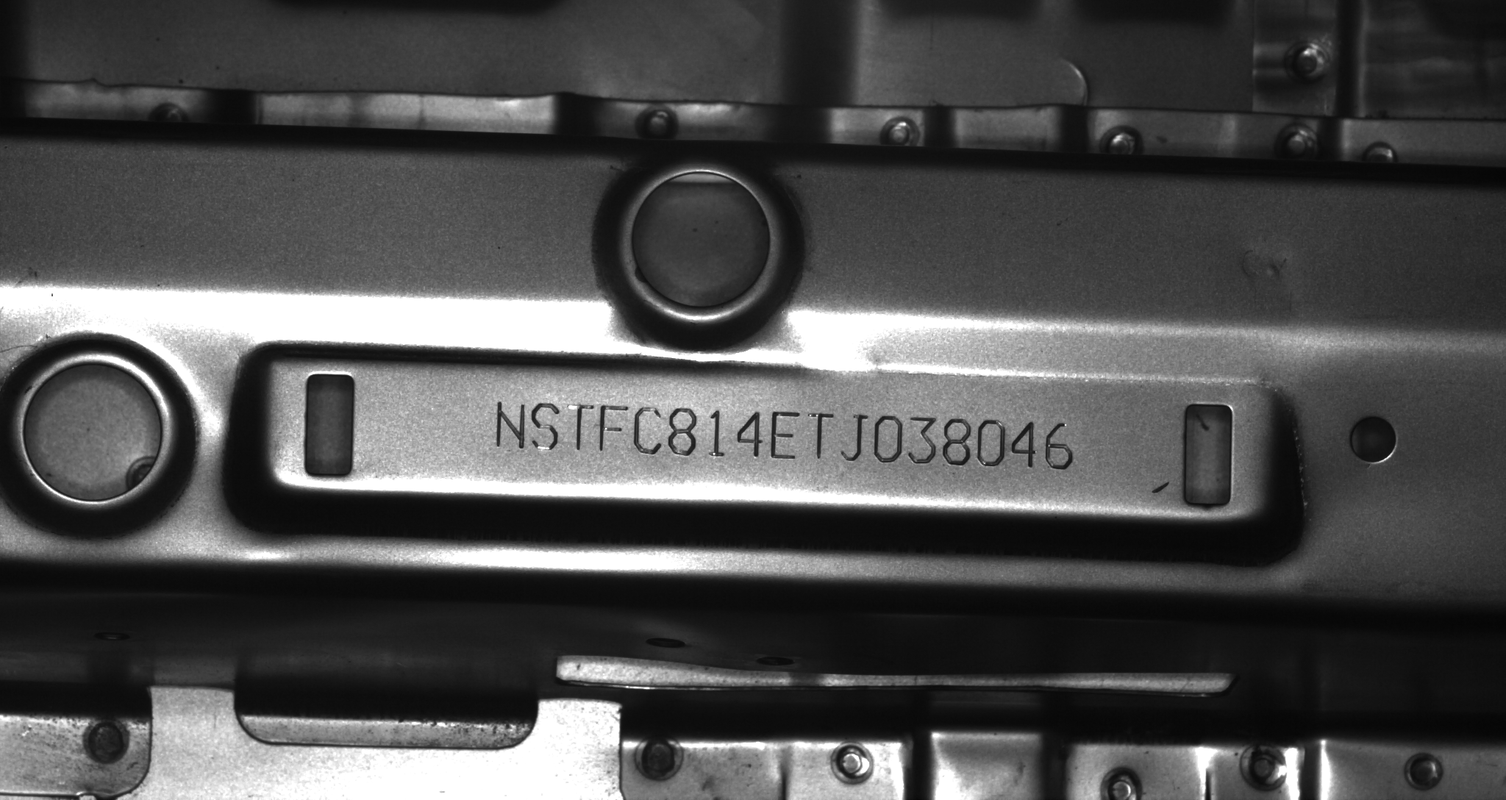qy_vin_plate: (262, 359, 1275, 527)
